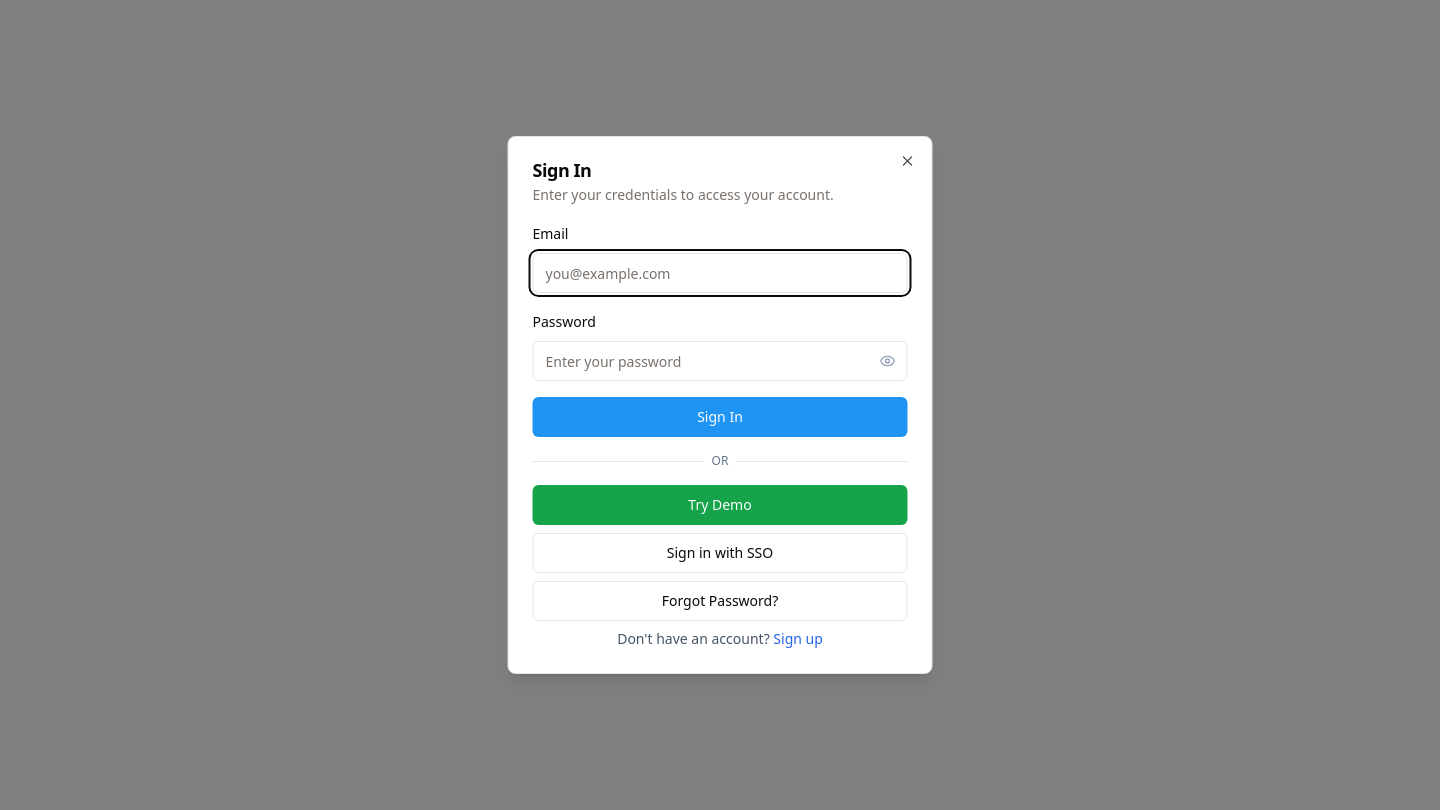
Scenario: AuthModal › shows password requirements in sign-up mode when password is entered
The image size is (1440, 810).
Switch to sign-up
Click the button "Sign up" at (798, 639), box 773,629 -> 823,649
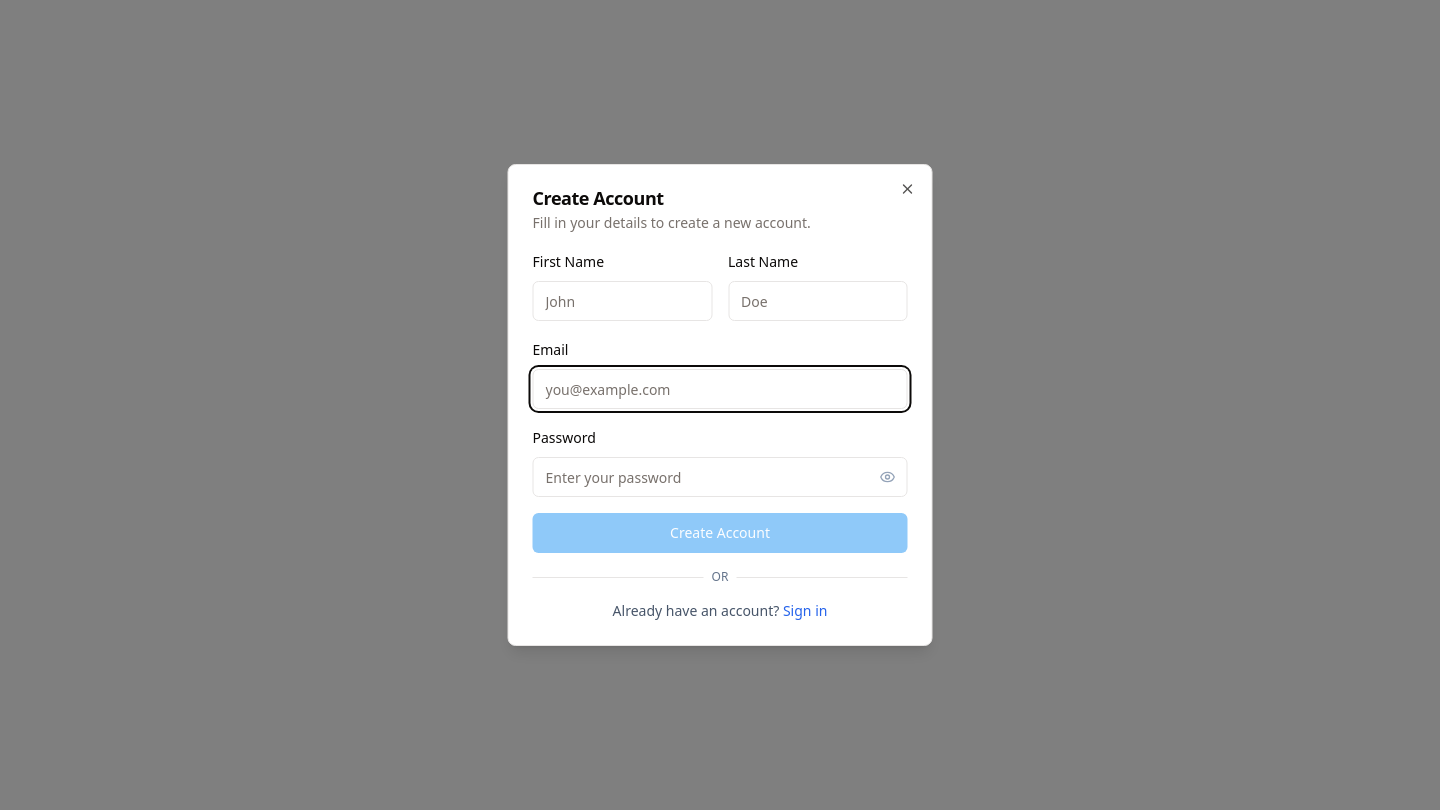
Type "weak" into the password field labelled "Password" at (720, 477), box 532,457 -> 908,497
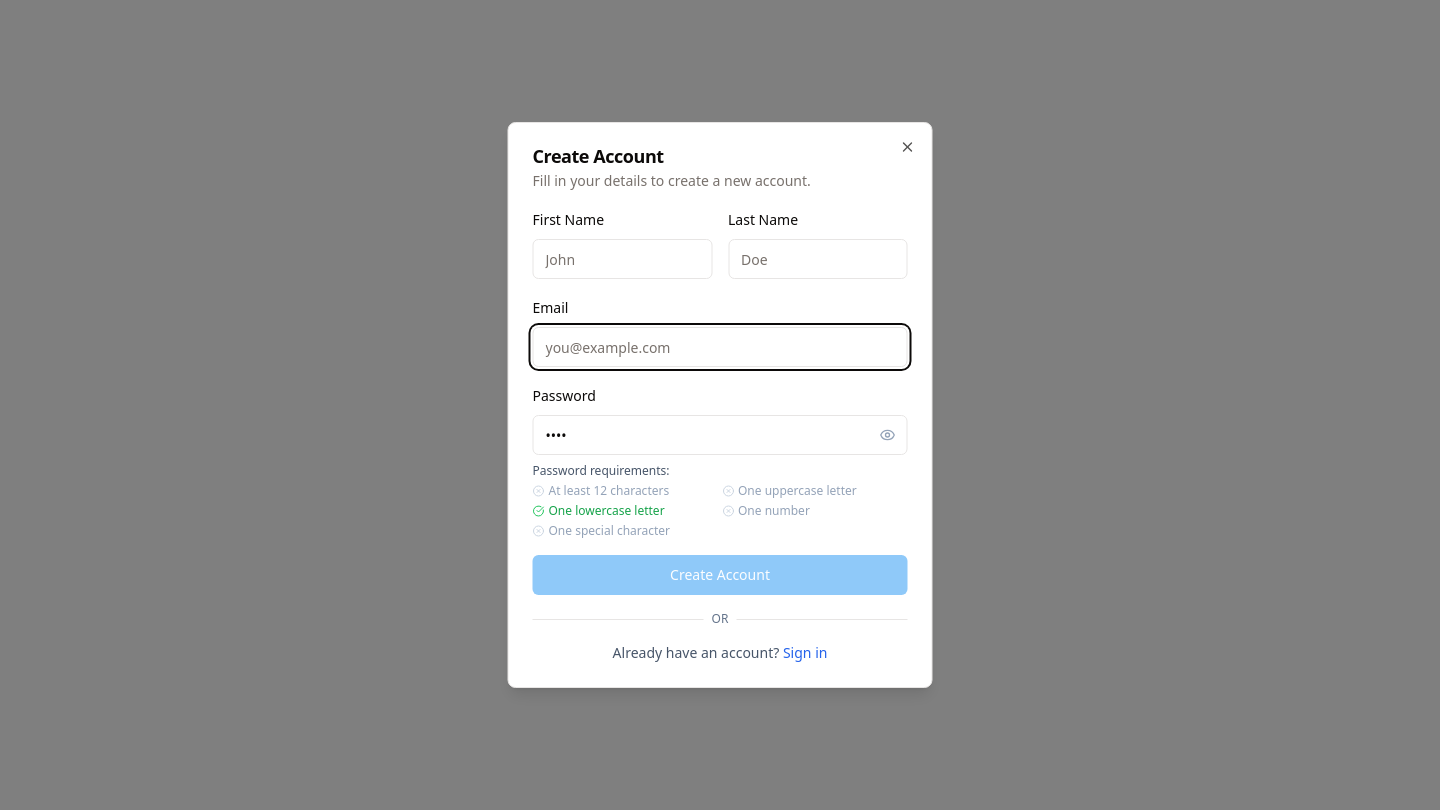
Check: the text "Password requirements:" is shown, box 532,462 -> 670,479
Check: the text "At least 12 characters" is shown, box 548,483 -> 669,499
Check: the text "One uppercase letter" is shown, box 738,483 -> 857,499
